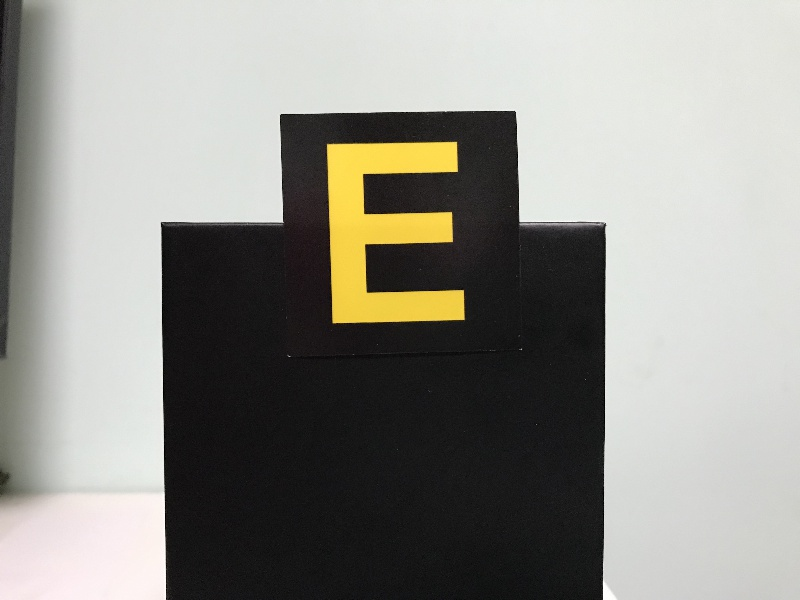E-15: (290, 119, 514, 347)
